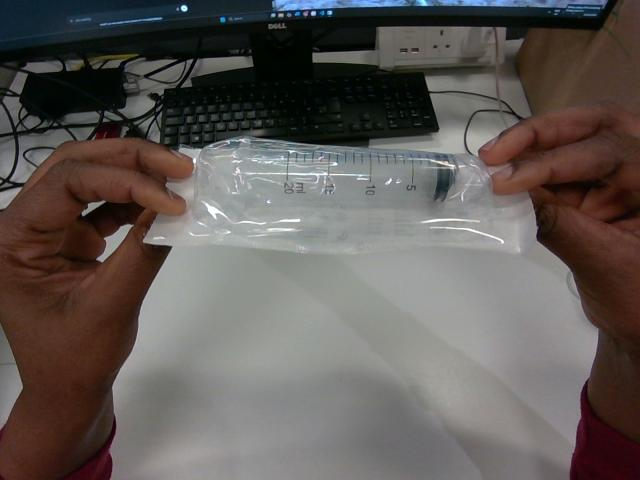syringe: (145, 137, 535, 253)
